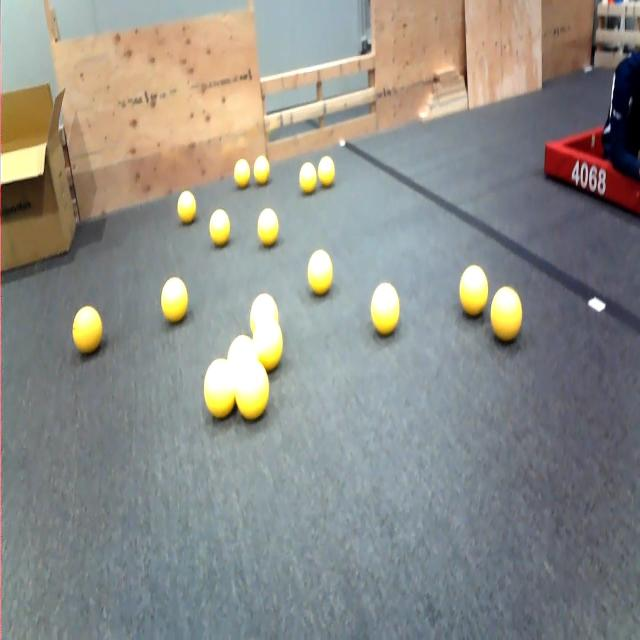fuel: (203, 358, 236, 420), (236, 360, 269, 420), (491, 287, 522, 342), (253, 319, 283, 372), (370, 283, 400, 336), (459, 265, 488, 316), (72, 306, 102, 354), (161, 277, 188, 322), (250, 293, 279, 334), (308, 249, 332, 295), (227, 335, 257, 367), (209, 208, 231, 247), (257, 208, 278, 246), (177, 190, 197, 224), (299, 162, 317, 194), (318, 156, 335, 187), (234, 159, 250, 188), (254, 155, 269, 185)
